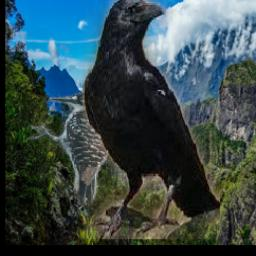Crow: (83, 0, 220, 239)
Woodpecker: (26, 91, 118, 206)
